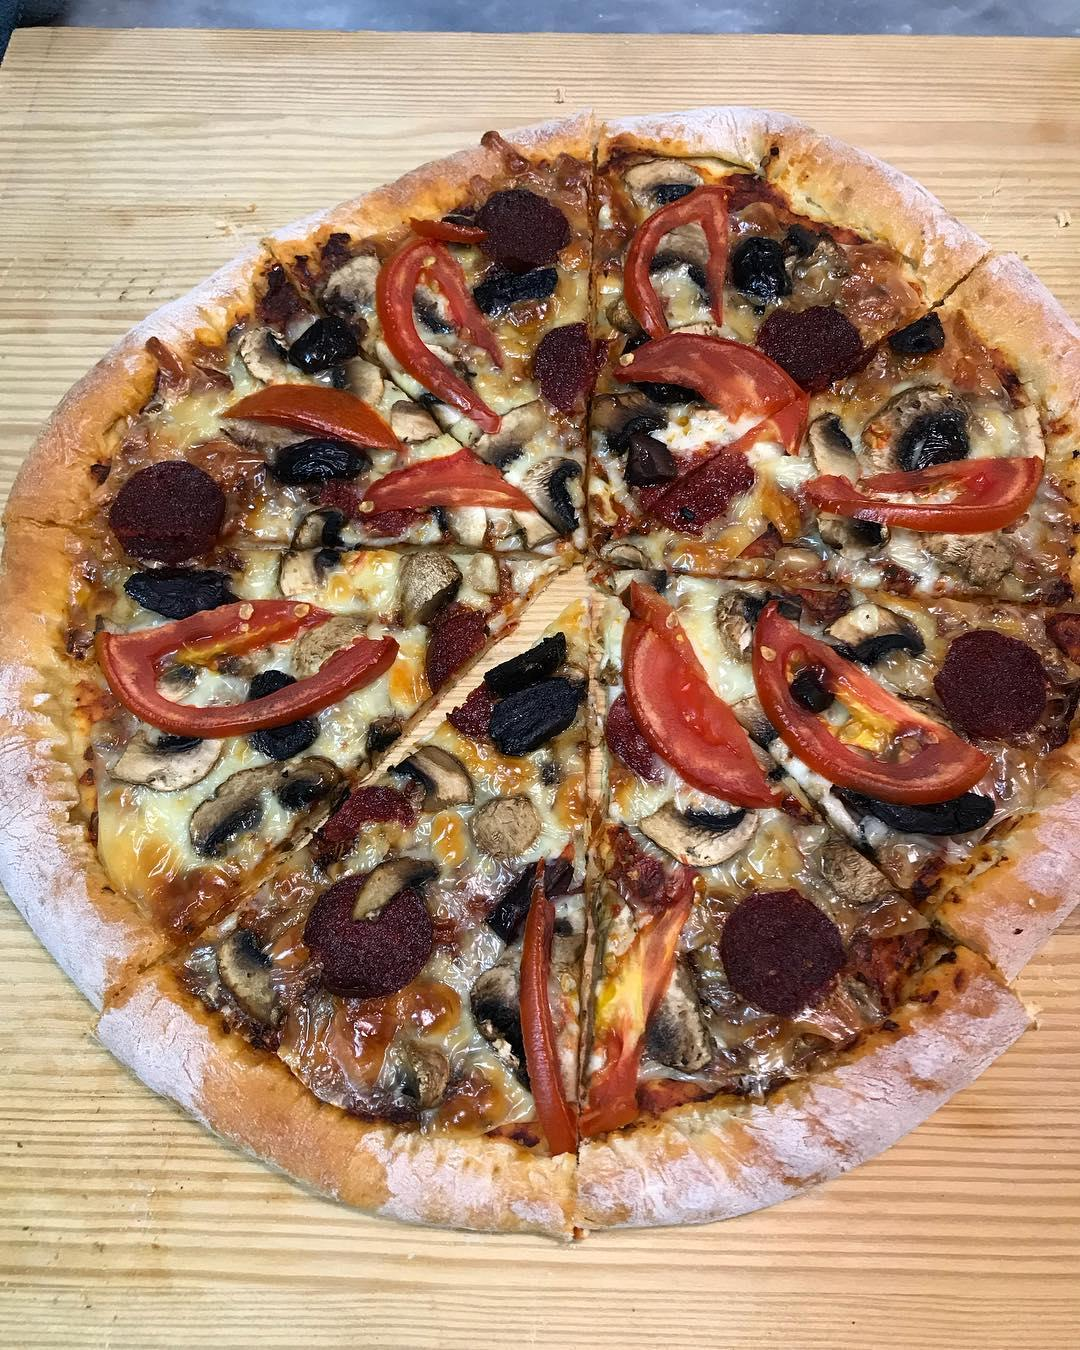Mushroom: (188, 756, 339, 853), (863, 382, 969, 466), (590, 395, 679, 483), (216, 931, 282, 1025), (108, 742, 226, 793), (278, 508, 345, 596), (350, 858, 440, 925), (824, 601, 924, 660), (393, 744, 475, 812), (240, 328, 332, 387), (402, 549, 462, 629), (520, 458, 581, 529), (475, 796, 542, 855), (624, 159, 705, 206), (809, 412, 860, 484), (647, 223, 711, 277), (407, 1041, 449, 1105), (390, 400, 443, 442), (441, 514, 488, 549)
Pepperoni: (754, 601, 994, 804), (93, 596, 402, 741), (619, 583, 793, 810), (577, 866, 706, 1148), (377, 235, 501, 429), (802, 454, 1047, 536), (520, 856, 576, 1156), (624, 186, 727, 336), (722, 893, 845, 1017), (305, 875, 429, 996), (616, 336, 808, 409), (223, 381, 404, 453), (112, 462, 225, 561), (937, 633, 1041, 737), (359, 454, 536, 514), (647, 444, 753, 533), (760, 307, 860, 388), (475, 190, 568, 269), (321, 788, 412, 855), (539, 326, 590, 419), (428, 615, 487, 690)
Pizza: (0, 127, 1080, 1245)
